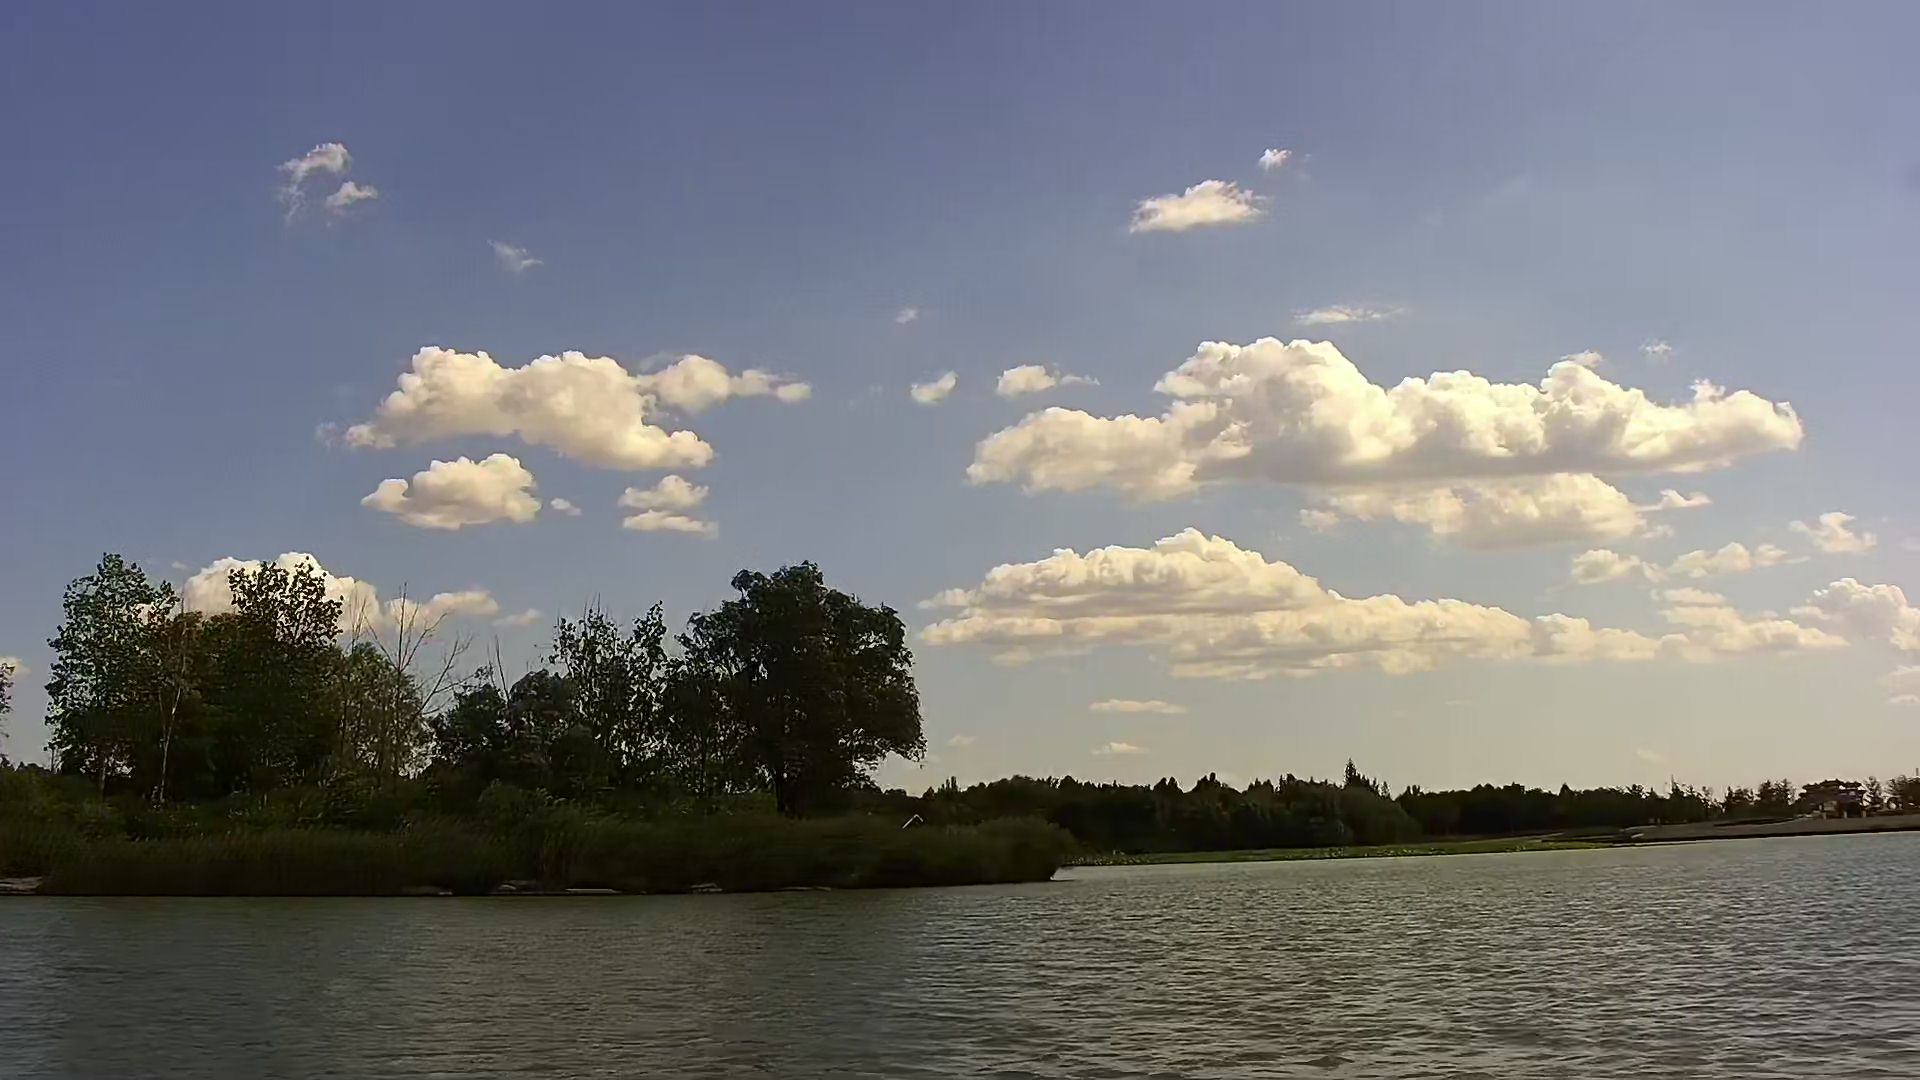rock: (4, 873, 38, 899)
